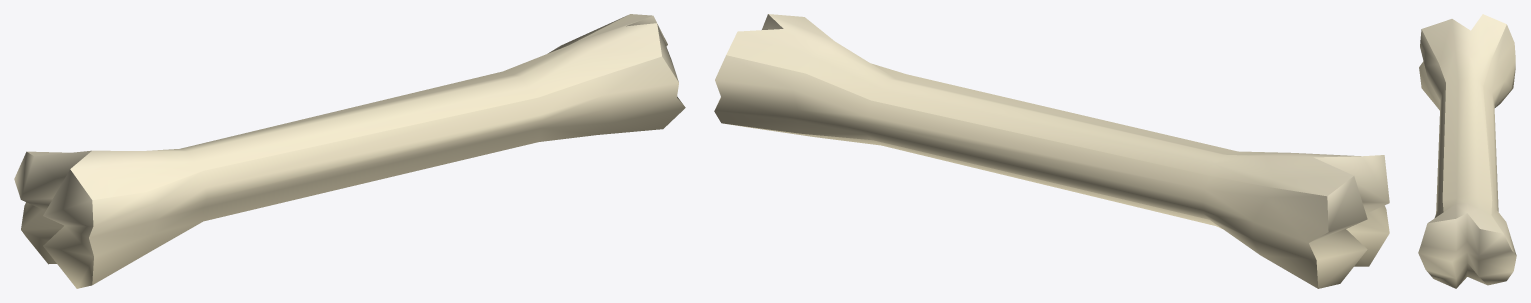
The model's file is bone.FBX.
3 renders of one model, left to right at view 1: azimuth 30°, elevation 25°; view 2: azimuth 150°, elevation 25°; view 3: azimuth 270°, elevation 25°, orthographic. The views are drawn at different scales.
Parts seen in each view (by area): view 1: Box018; view 2: Box018; view 3: Box018.
Part boxes in pixels (box(x1,y1,x2,y2)): Box018: box(14, 14, 685, 288); Box018: box(714, 14, 1389, 288); Box018: box(1418, 14, 1516, 288).
Bounding box in the file's own units: 92.38 × 17.6 × 15.74.
